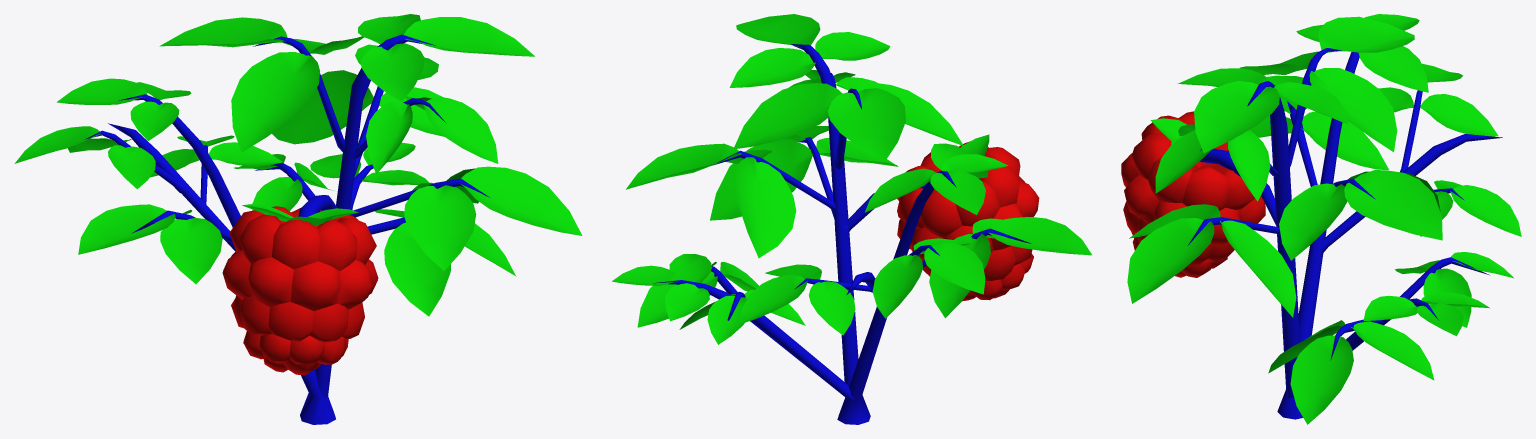
File: BlackBerry_4.fbx
3 views of the same model, side by side, from view 1: azimuth 30°, elevation 25°; view 2: azimuth 150°, elevation 25°; view 3: azimuth 270°, elevation 25° (orthographic). The views are drawn at different scales.
Parts seen in each view (by area): view 1: BSTC_BlackBerry_4; view 2: BSTC_BlackBerry_4; view 3: BSTC_BlackBerry_4.
Part boxes in pixels (bbox=[...]): BSTC_BlackBerry_4: bbox=[14, 14, 582, 424]; BSTC_BlackBerry_4: bbox=[612, 14, 1091, 424]; BSTC_BlackBerry_4: bbox=[1121, 14, 1521, 424].
Bounding box in the file's own units: 86.49 × 69.4 × 69.3.
